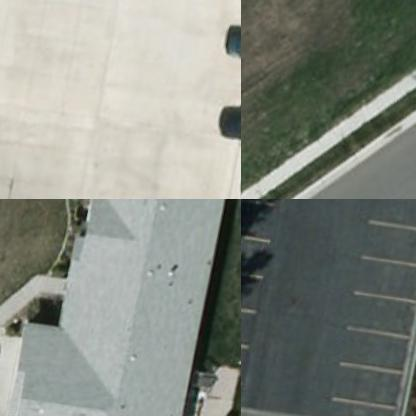car: (218, 26, 240, 81)
pickup: (211, 108, 240, 162)
